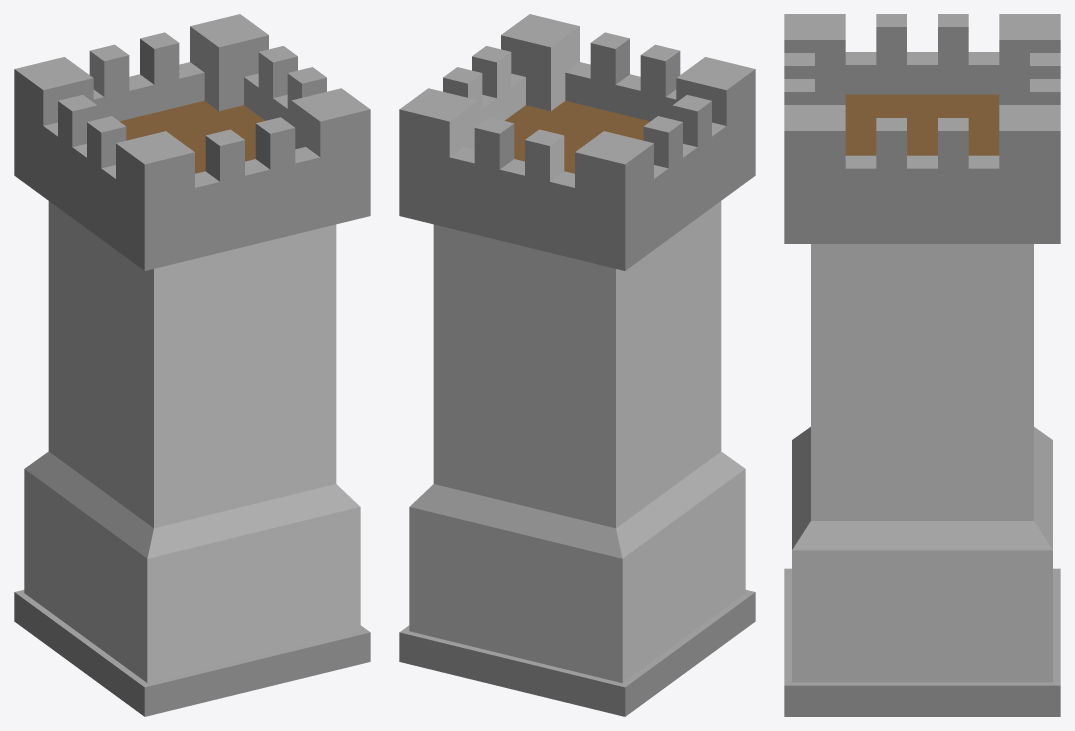
The model's file is Towe1.glb.
The picture shows the model from 3 angles, left to right: view 1: azimuth 30°, elevation 25°; view 2: azimuth 150°, elevation 25°; view 3: azimuth 270°, elevation 25°; orthographic projection. The views are drawn at different scales.
Visible parts, largest first — view 1: Cube; view 2: Cube; view 3: Cube.
Part boxes in pixels (<box>): Cube: <box>14,14,370,716</box>; Cube: <box>399,14,755,716</box>; Cube: <box>784,14,1060,716</box>.
Bounding box in the file's own units: 4 × 9.36 × 4.
